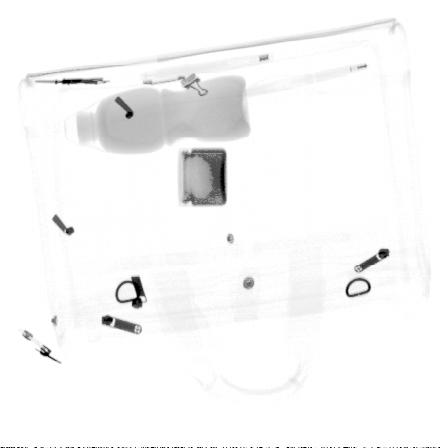Scissors: (33, 78, 108, 88)
